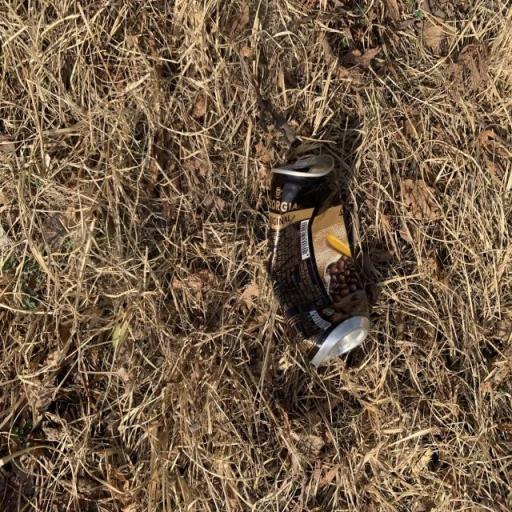metal: (245, 115, 397, 373)
